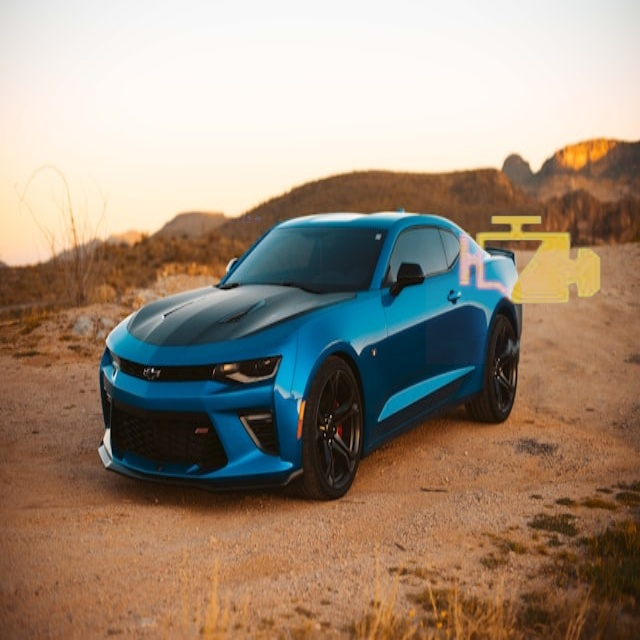symbol: (118, 19, 327, 228), (426, 158, 632, 364), (83, 47, 269, 233)
